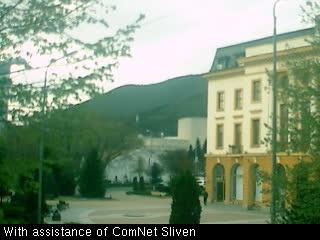person: (203, 188, 209, 206)
